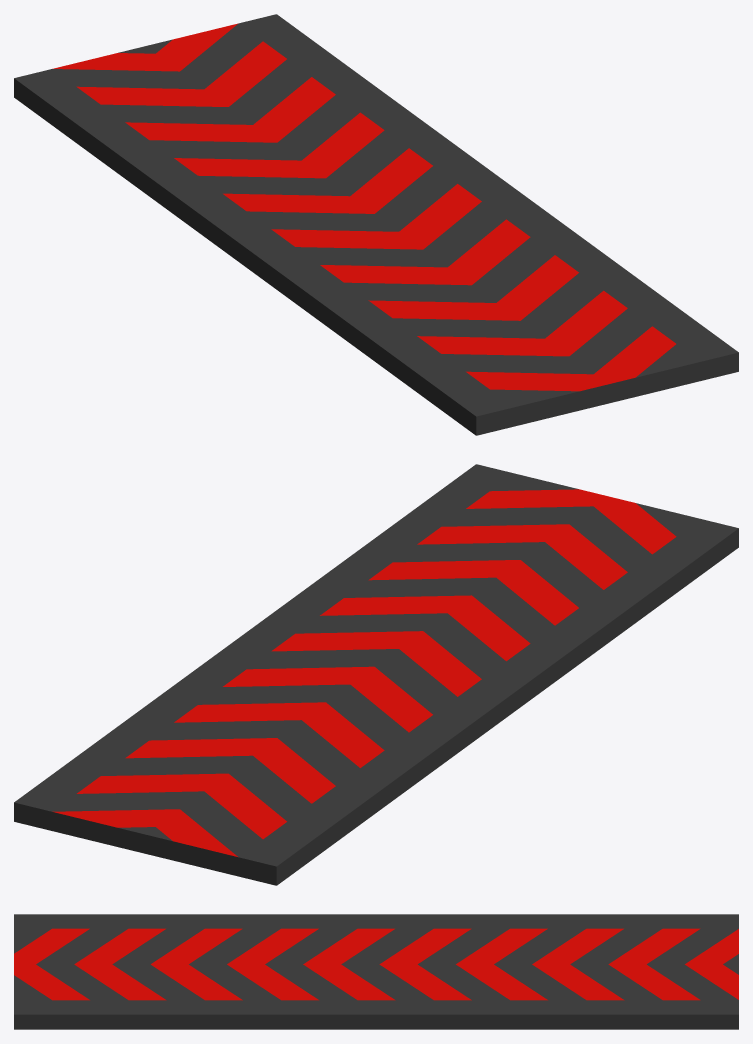
File: redarrows.fbx
3 renders of one model, top to bottom at view 1: azimuth 30°, elevation 25°; view 2: azimuth 150°, elevation 25°; view 3: azimuth 270°, elevation 25°, orthographic. The views are drawn at different scales.
Visible parts, largest first — view 1: Cube.006; view 2: Cube.006; view 3: Cube.006.
Part boxes in pixels (<box>): Cube.006: <box>14,14,738,435</box>; Cube.006: <box>14,464,738,885</box>; Cube.006: <box>14,914,738,1029</box>.
Bounding box in the file's own units: 265 × 18.57 × 808.
